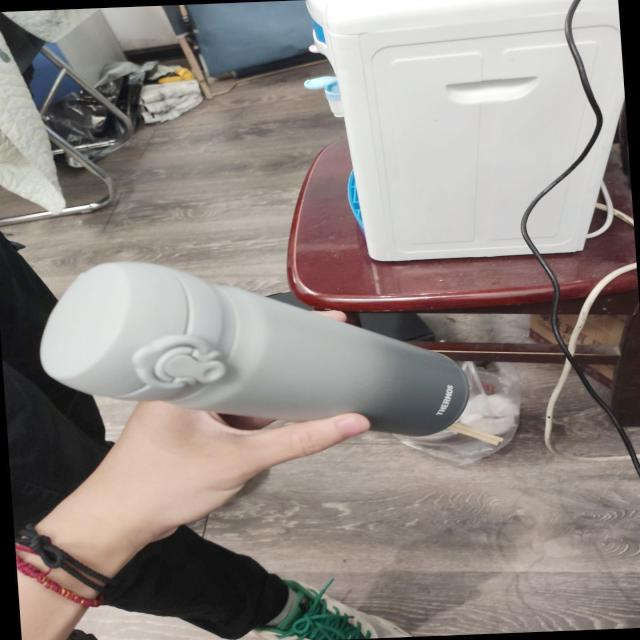bottle: (35, 221, 480, 455)
